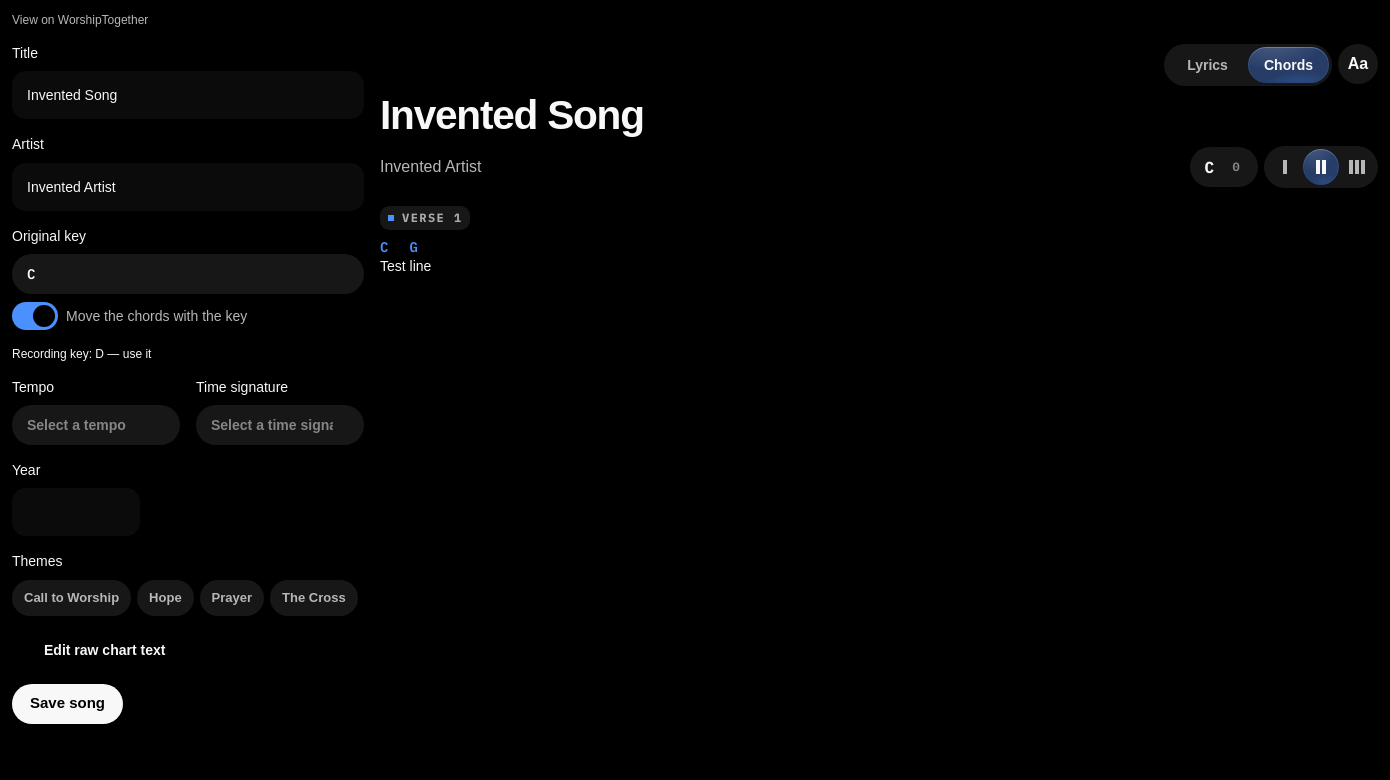
ImportForm › transposes the raw chart text when the recording-key suggestion is applied
This screenshot has width=1390, height=780.
What coordinates should you click on to do the following:
click the button "Recording key: D — use it"
I would click on:
 (82, 354)
Its box is [12,346,151,362].
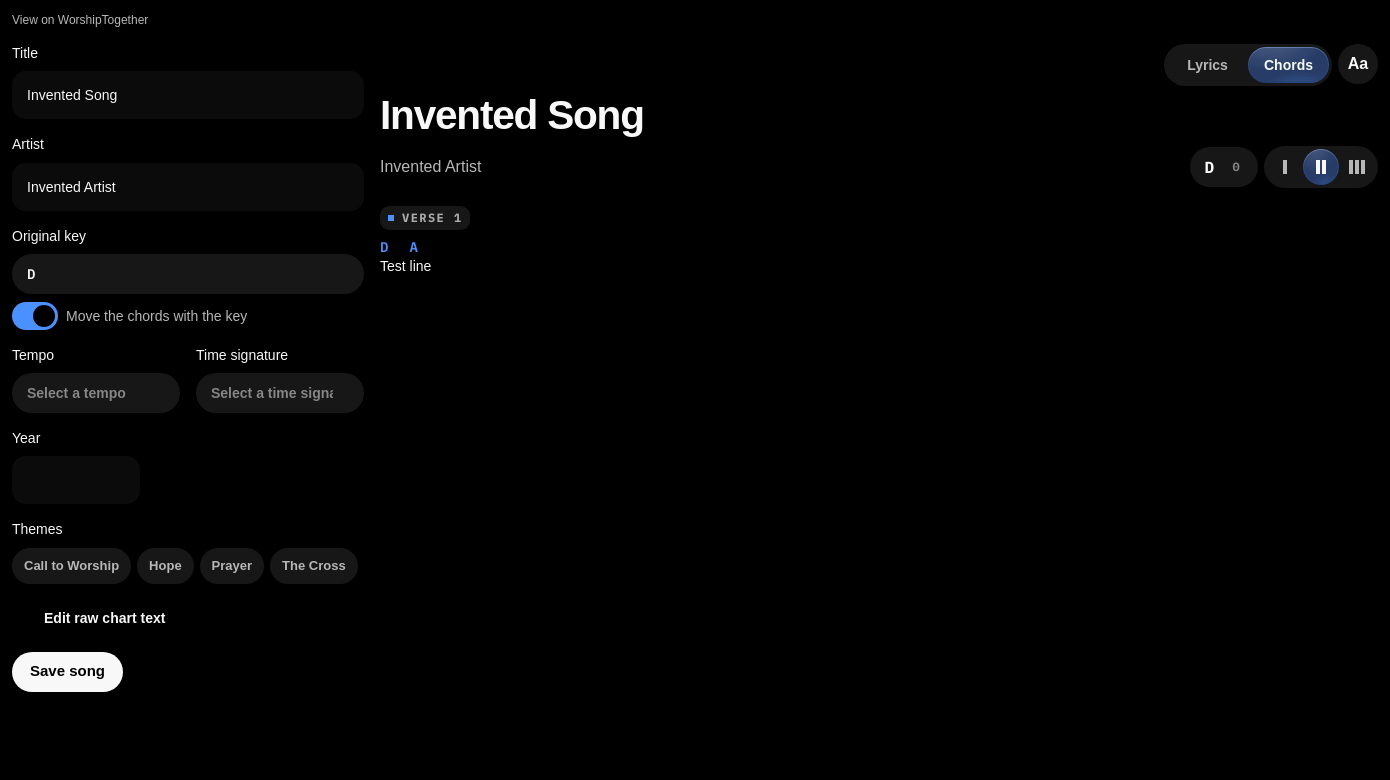
What coordinates should you click on to do the following:
click the button "Edit raw chart text"
I would click on:
 (95, 618)
Its box is [12,600,177,636].
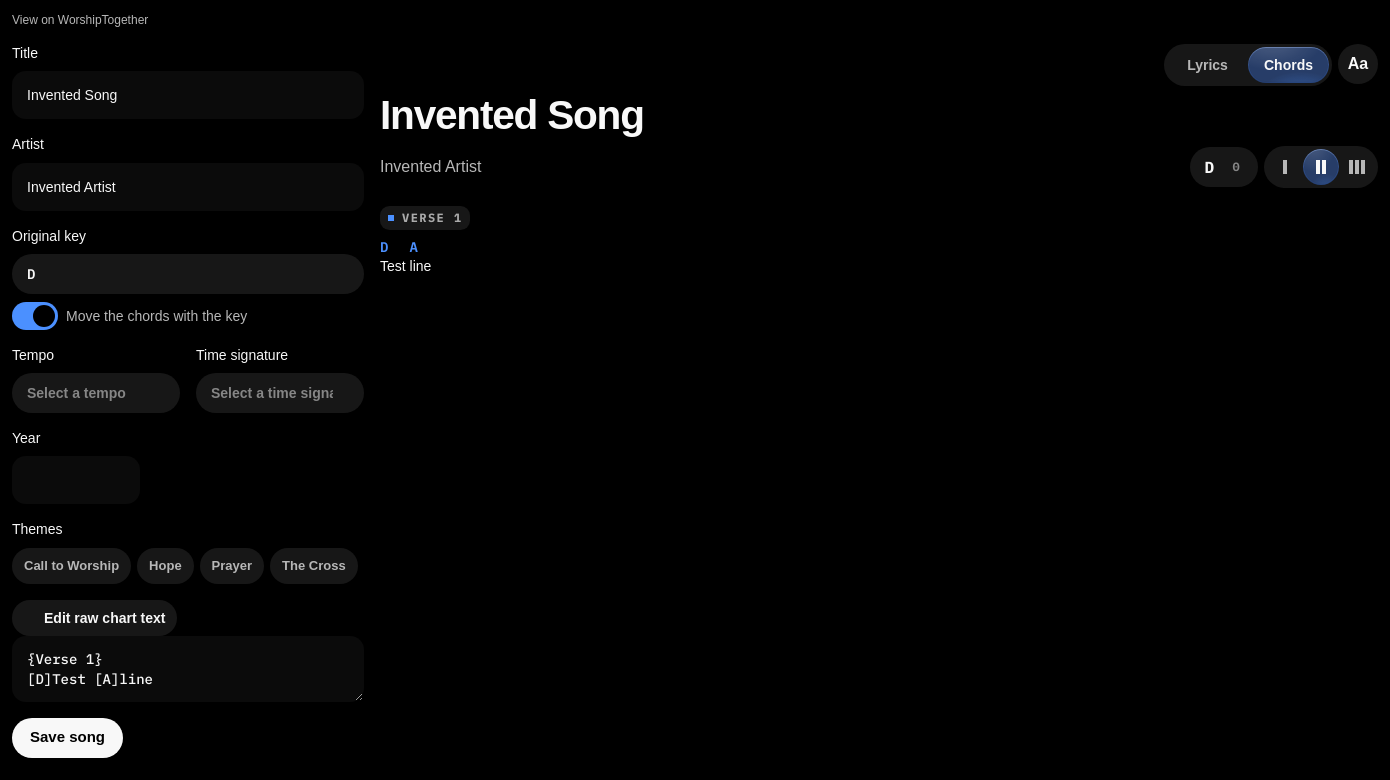
Expected: the text box showing "[D]Test [A]line" is shown, [12,636,364,702]
